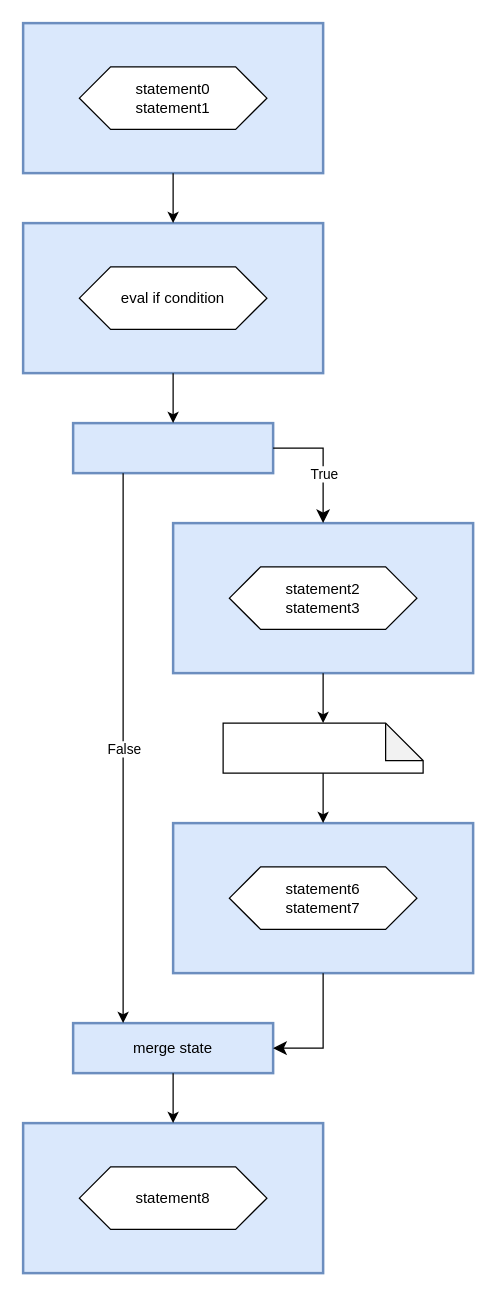
Some shapes in this 495 by 1295 pixel diagram are drawn without their labels. Here are the shapes that lost their labels. From the top down, the box of each, then its label:
(71, 421, 274, 474): guard state
(222, 722, 423, 773): while loop
